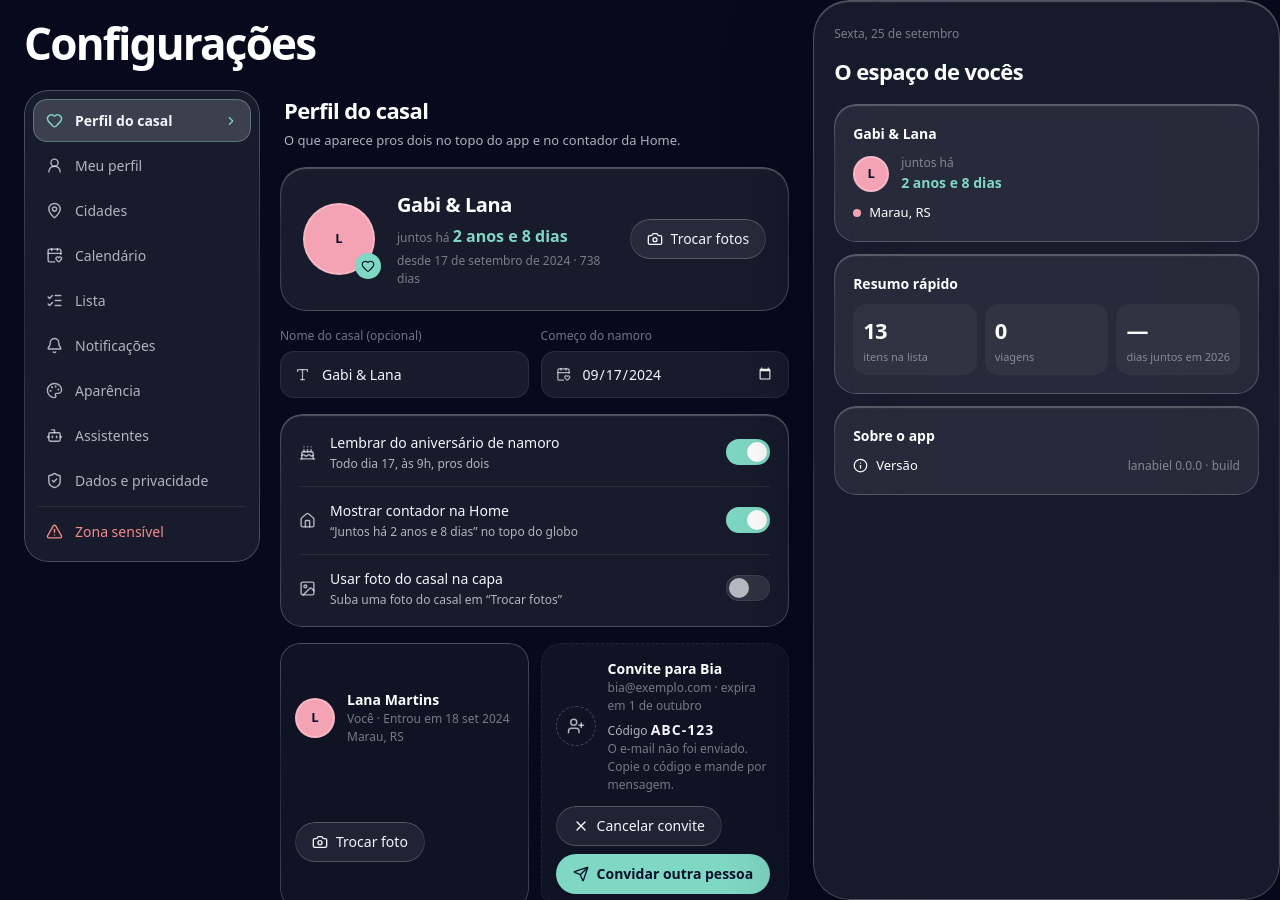
Test: A16a — convite pendente com um integrante só › mostra o convite aberto; cancelar pede confirmação e revoga
The width and height of the screenshot is (1280, 900).
Expected: the text "Convite para Bia" is shown, [608,659,722,678]
Expected: the text "ABC-123" is shown, [651,720,714,739]
Click the button "Cancelar convite" at (639, 826), box [556,806,722,846]
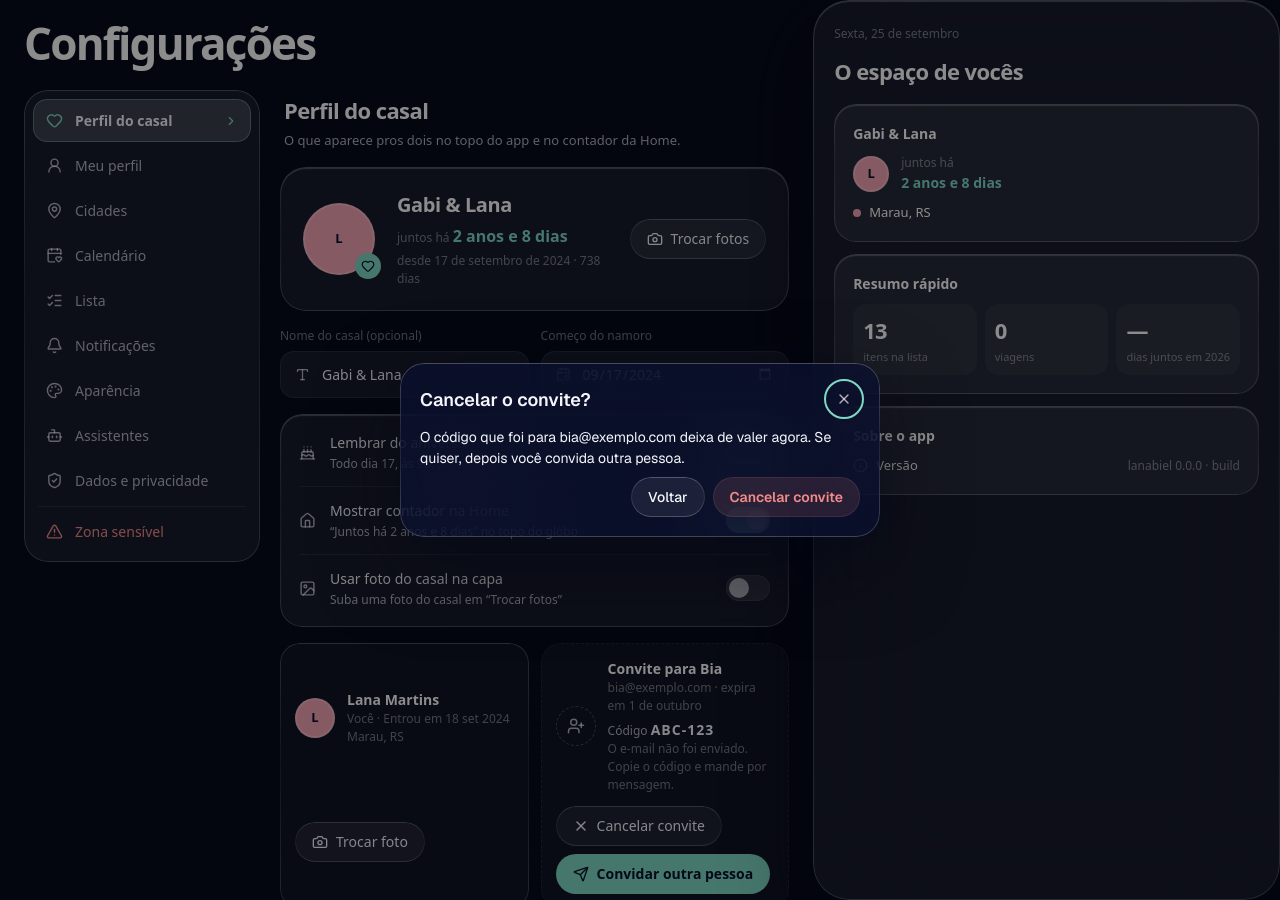
Click the button "Cancelar convite" at (786, 497), box [712,477,860,517]
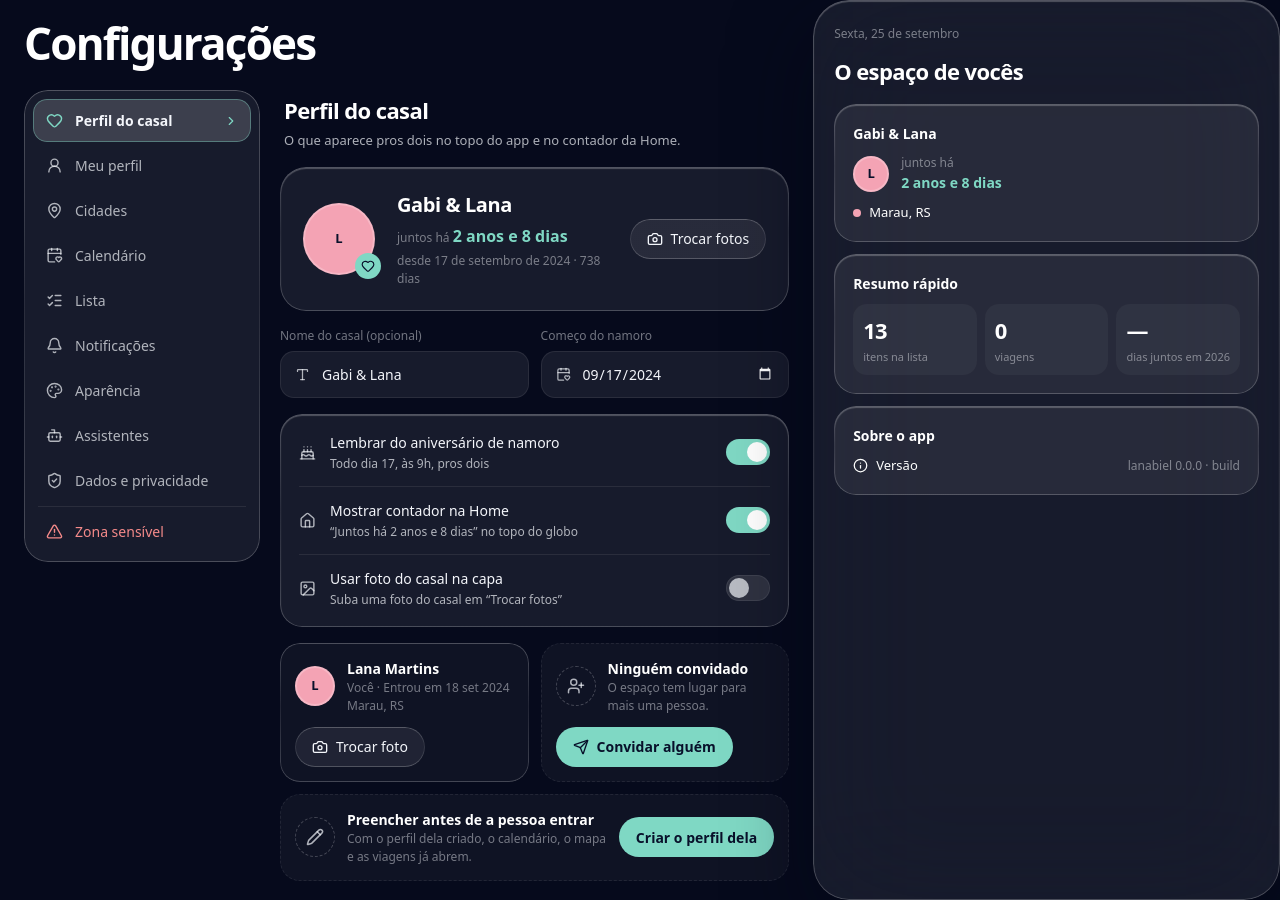
Now the text "Ninguém convidado" is shown, box [608,659,748,678]
Now the button "Convidar alguém" is shown, box [556,727,733,767]
